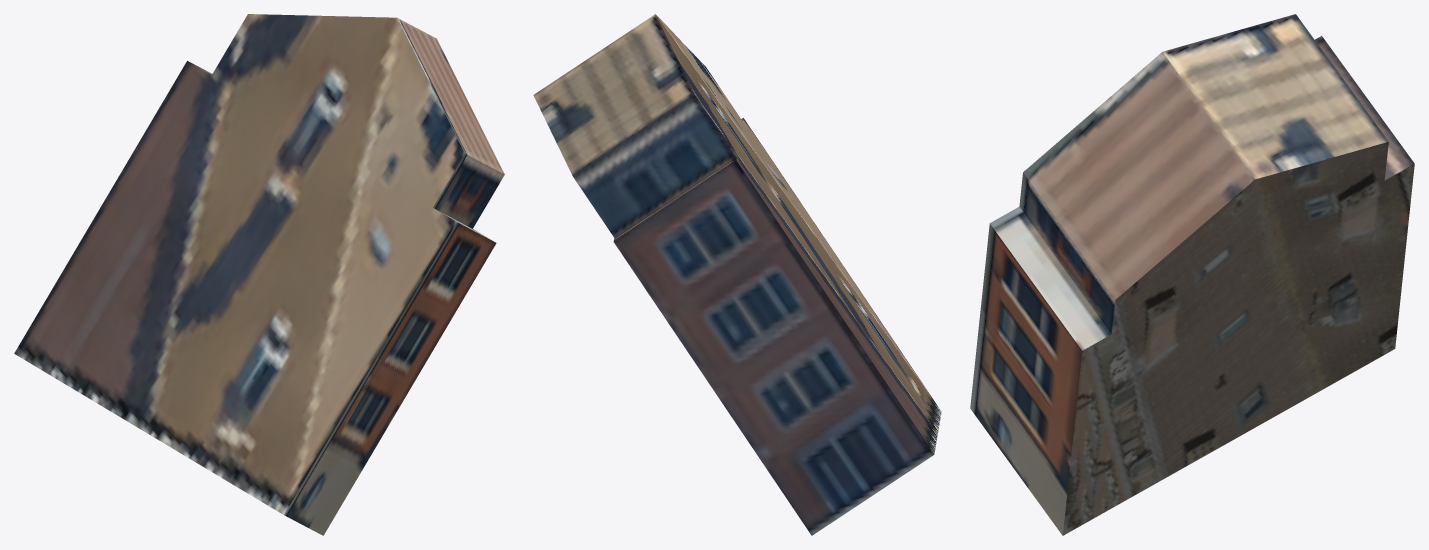
3 views of the same model, side by side, from view 1: azimuth 30°, elevation 25°; view 2: azimuth 150°, elevation 25°; view 3: azimuth 270°, elevation 25° (orthographic). The views are drawn at different scales.
Visible parts, largest first — view 1: BAG_0599100000650041 (×2); view 2: BAG_0599100000650041 (×2); view 3: BAG_0599100000650041 (×3).
Part boxes in pixels (x1,y1,x2,y2): BAG_0599100000650041 (×2): (14,14,504,535); BAG_0599100000650041 (×2): (533,14,941,535); BAG_0599100000650041 (×3): (970,14,1414,535).
Bounding box in the file's own units: 17.49 × 18.62 × 13.6.
1 material, 1 textured.
